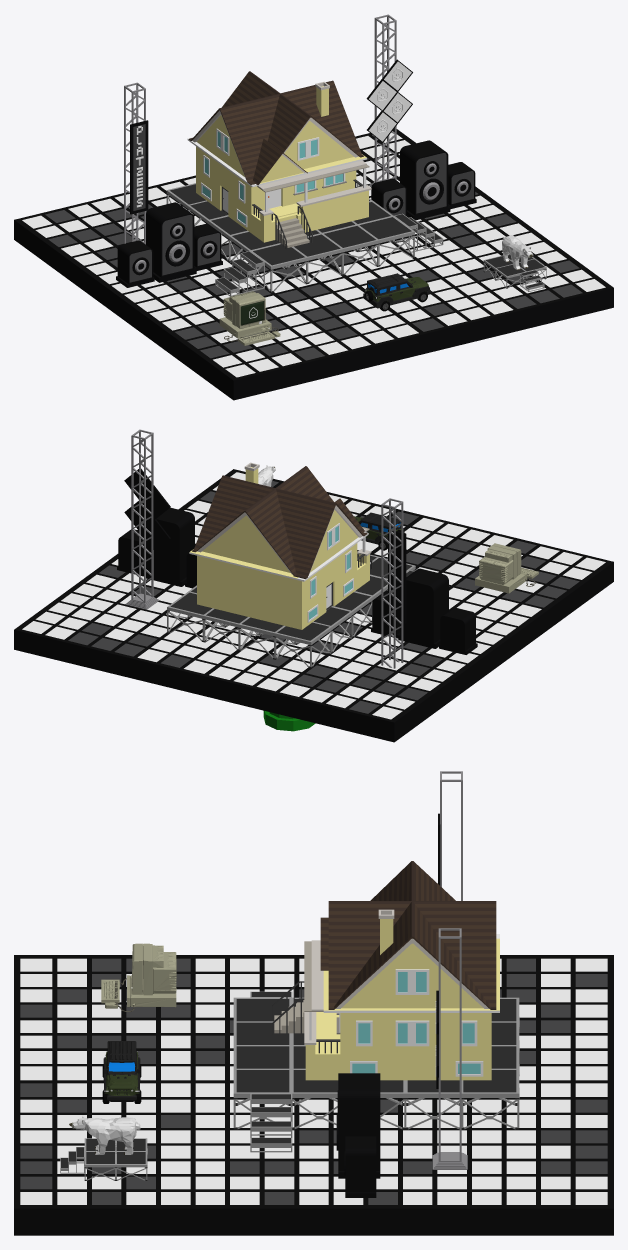
3 views of the same model, one above another, from view 1: azimuth 30°, elevation 25°; view 2: azimuth 150°, elevation 25°; view 3: azimuth 270°, elevation 25° (orthographic). The views are drawn at different scales.
Parts seen in each view (by area): view 1: Cube.008, Cube.1555, OBJRANDOM_RETRO_PC, VEHICLES_JEEP, ANIMAL_OSO_POLAR; view 2: Cube.008, Cube.1555, OBJRANDOM_RETRO_PC, VEHICLES_JEEP, UNDERGROUND_PIPES; view 3: Cube.008, Cube.1555, OBJRANDOM_RETRO_PC, VEHICLES_JEEP, ANIMAL_OSO_POLAR.
Boxes of the visible parts, x1,y1,x2,y2 form: Cube.008: [14, 14, 613, 400]; Cube.1555: [187, 71, 371, 249]; OBJRANDOM_RETRO_PC: [219, 291, 280, 345]; VEHICLES_JEEP: [363, 273, 430, 311]; ANIMAL_OSO_POLAR: [502, 235, 533, 270]; Cube.008: [14, 429, 613, 742]; Cube.1555: [189, 462, 372, 629]; OBJRANDOM_RETRO_PC: [475, 543, 538, 593]; VEHICLES_JEEP: [354, 512, 404, 550]; UNDERGROUND_PIPES: [263, 711, 315, 731]; Cube.008: [14, 771, 613, 1235]; Cube.1555: [272, 861, 499, 1080]; OBJRANDOM_RETRO_PC: [101, 943, 176, 1011]; VEHICLES_JEEP: [102, 1041, 141, 1103]; ANIMAL_OSO_POLAR: [69, 1115, 140, 1154].
Bounding box in the file's own units: 4000 × 2555 × 4000.
39 materials, 1 textured.
